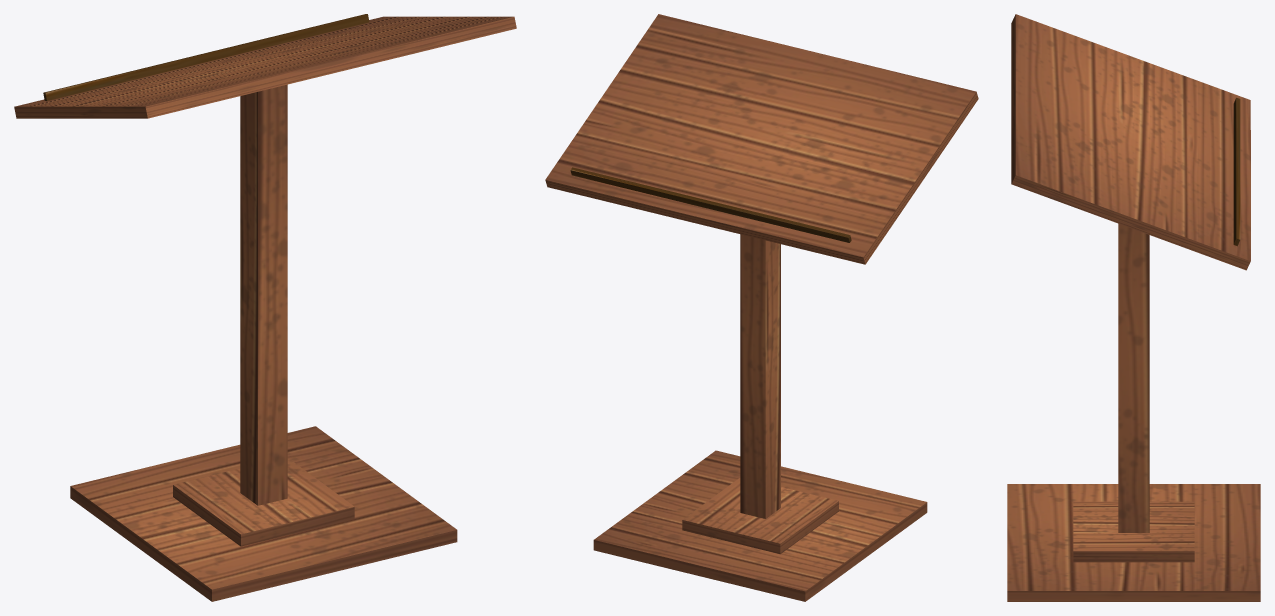
Rendered from Bookstand1.fbx.
3 renders of one model, left to right at view 1: azimuth 30°, elevation 25°; view 2: azimuth 150°, elevation 25°; view 3: azimuth 270°, elevation 25°, orthographic. The views are drawn at different scales.
Visible parts, largest first — view 1: Bookstand1; view 2: Bookstand1; view 3: Bookstand1.
Part boxes in pixels (left/top/right/bottom): Bookstand1: left=14, top=14, right=516, bottom=601; Bookstand1: left=545, top=14, right=978, bottom=601; Bookstand1: left=1007, top=14, right=1260, bottom=601.
Bounding box in the file's own units: 838 × 557 × 1100.
